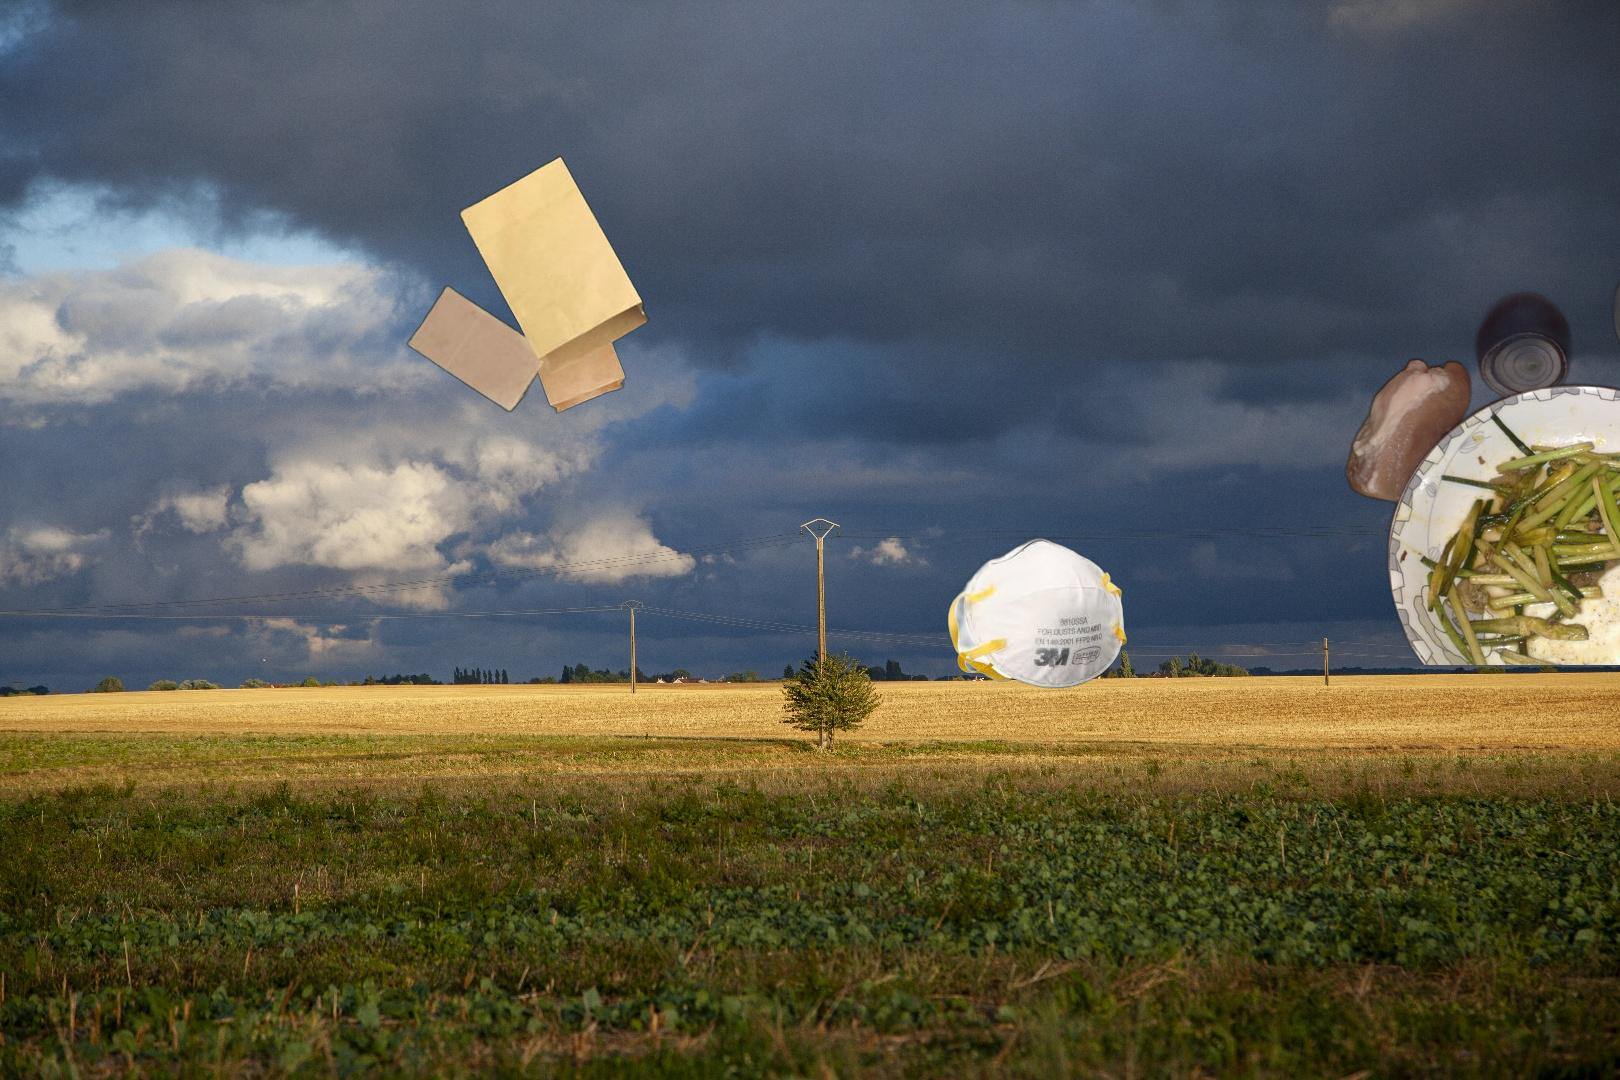biological: (1340, 260, 1620, 665)
paper-bag: (374, 141, 653, 416)
trash: (945, 534, 1130, 691)
